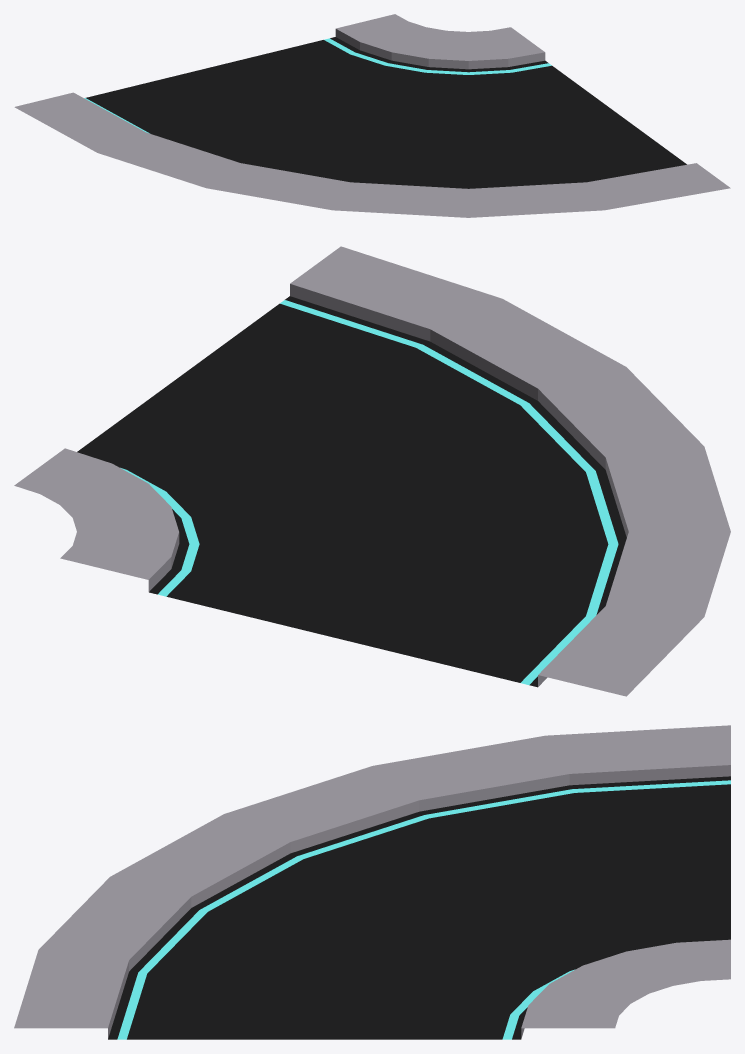
The model's file is 2-vias-curva.fbx.
3 views of the same model, one above another, from view 1: azimuth 30°, elevation 25°; view 2: azimuth 150°, elevation 25°; view 3: azimuth 270°, elevation 25° (orthographic). The views are drawn at different scales.
Parts seen in each view (by area): view 1: Model; view 2: Model; view 3: Model.
Part boxes in pixels (bbox=[...]): Model: bbox=[14, 14, 730, 217]; Model: bbox=[14, 246, 730, 696]; Model: bbox=[14, 725, 730, 1039].
Bounding box in the file's own units: 11.45 × 0.2 × 11.45.
